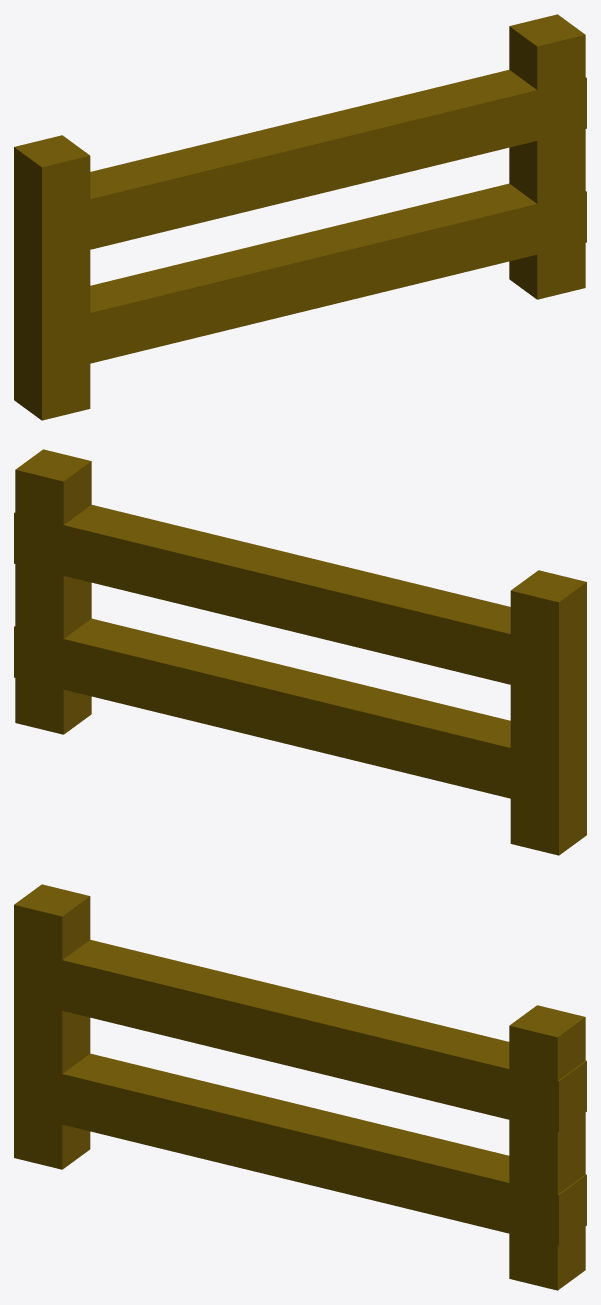
Rendered from wall.fbx.
3 views of the same model, one above another, from view 1: azimuth 30°, elevation 25°; view 2: azimuth 150°, elevation 25°; view 3: azimuth 330°, elevation 25° (orthographic).
Parts seen in each view (by area): view 1: pCube2, pCube5, pCube3, pCube4; view 2: pCube2, pCube5, pCube3, pCube4; view 3: pCube2, pCube5, pCube4, pCube3.
Boxes of the visible parts, box(x1,y1,x2,y2) form: pCube2: box(54, 70, 586, 257); pCube5: box(55, 183, 586, 371); pCube3: box(14, 135, 90, 420); pCube4: box(509, 14, 585, 299); pCube2: box(14, 505, 546, 693); pCube5: box(14, 618, 546, 807); pCube3: box(510, 570, 586, 855); pCube4: box(15, 449, 91, 734); pCube2: box(26, 940, 586, 1131); pCube5: box(26, 1053, 586, 1245); pCube4: box(509, 1005, 585, 1290); pCube3: box(14, 884, 90, 1169).
Size of the model in its own units: 11.26 by 5 by 1.
